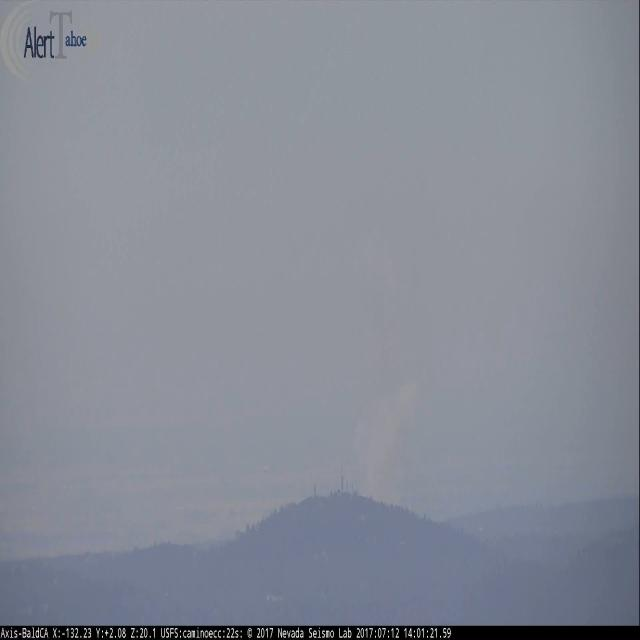smoke: (358, 384, 418, 500)
